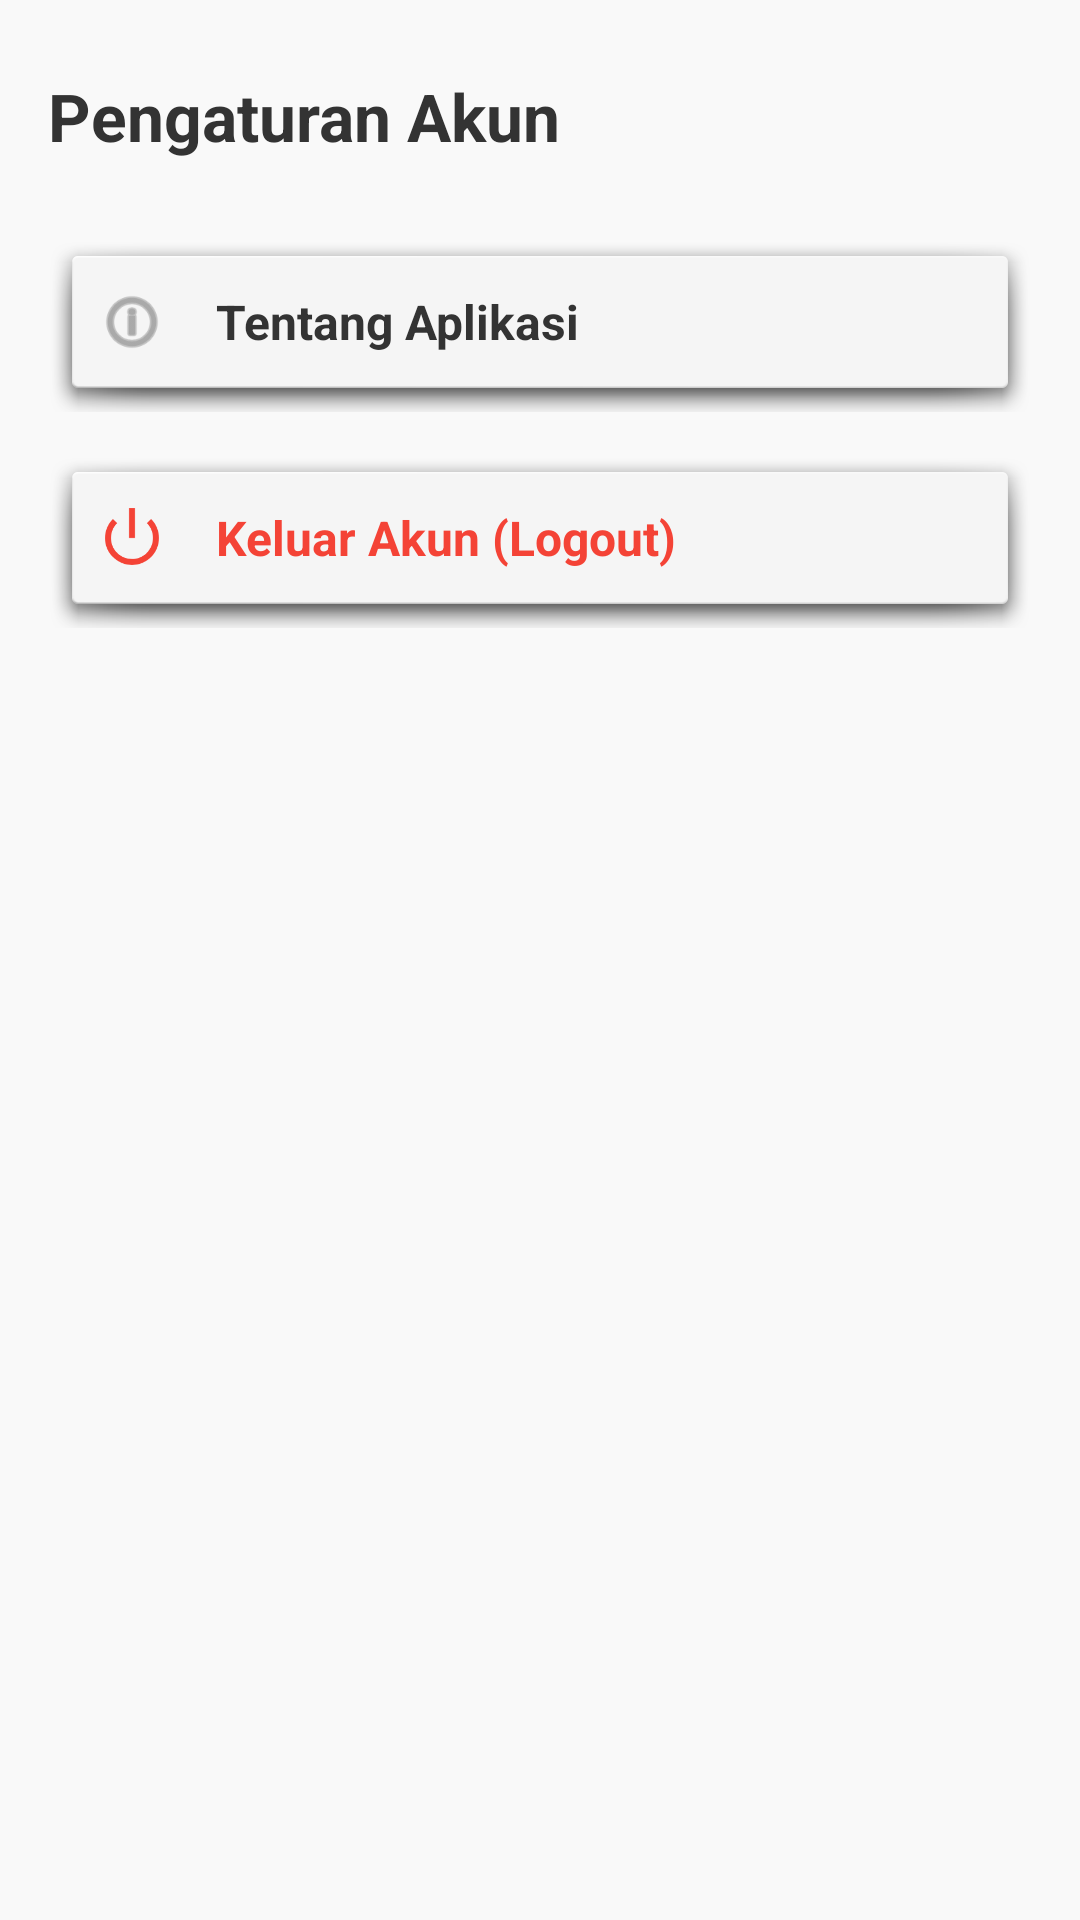

Icon bounding boxes for this 1080px x 1920px phone screenshot, format box(x1, y1, x2, y2):
info details: box(106, 296, 158, 348)
lock power off: box(105, 508, 159, 565)
